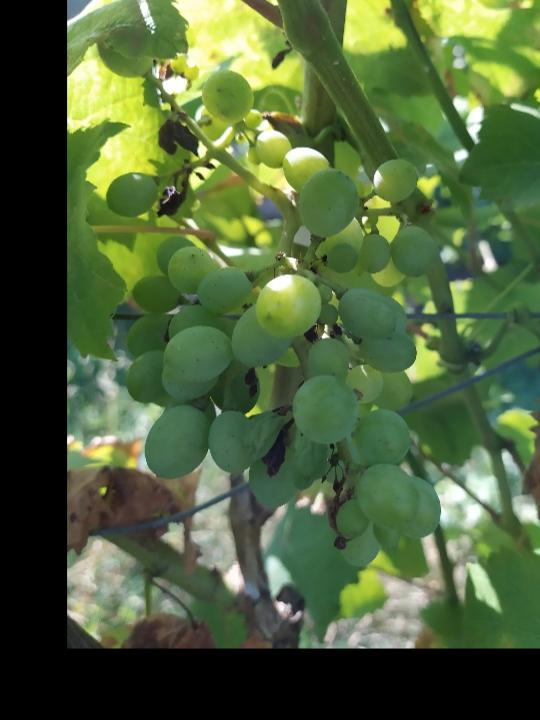grape: (95, 44, 447, 570)
